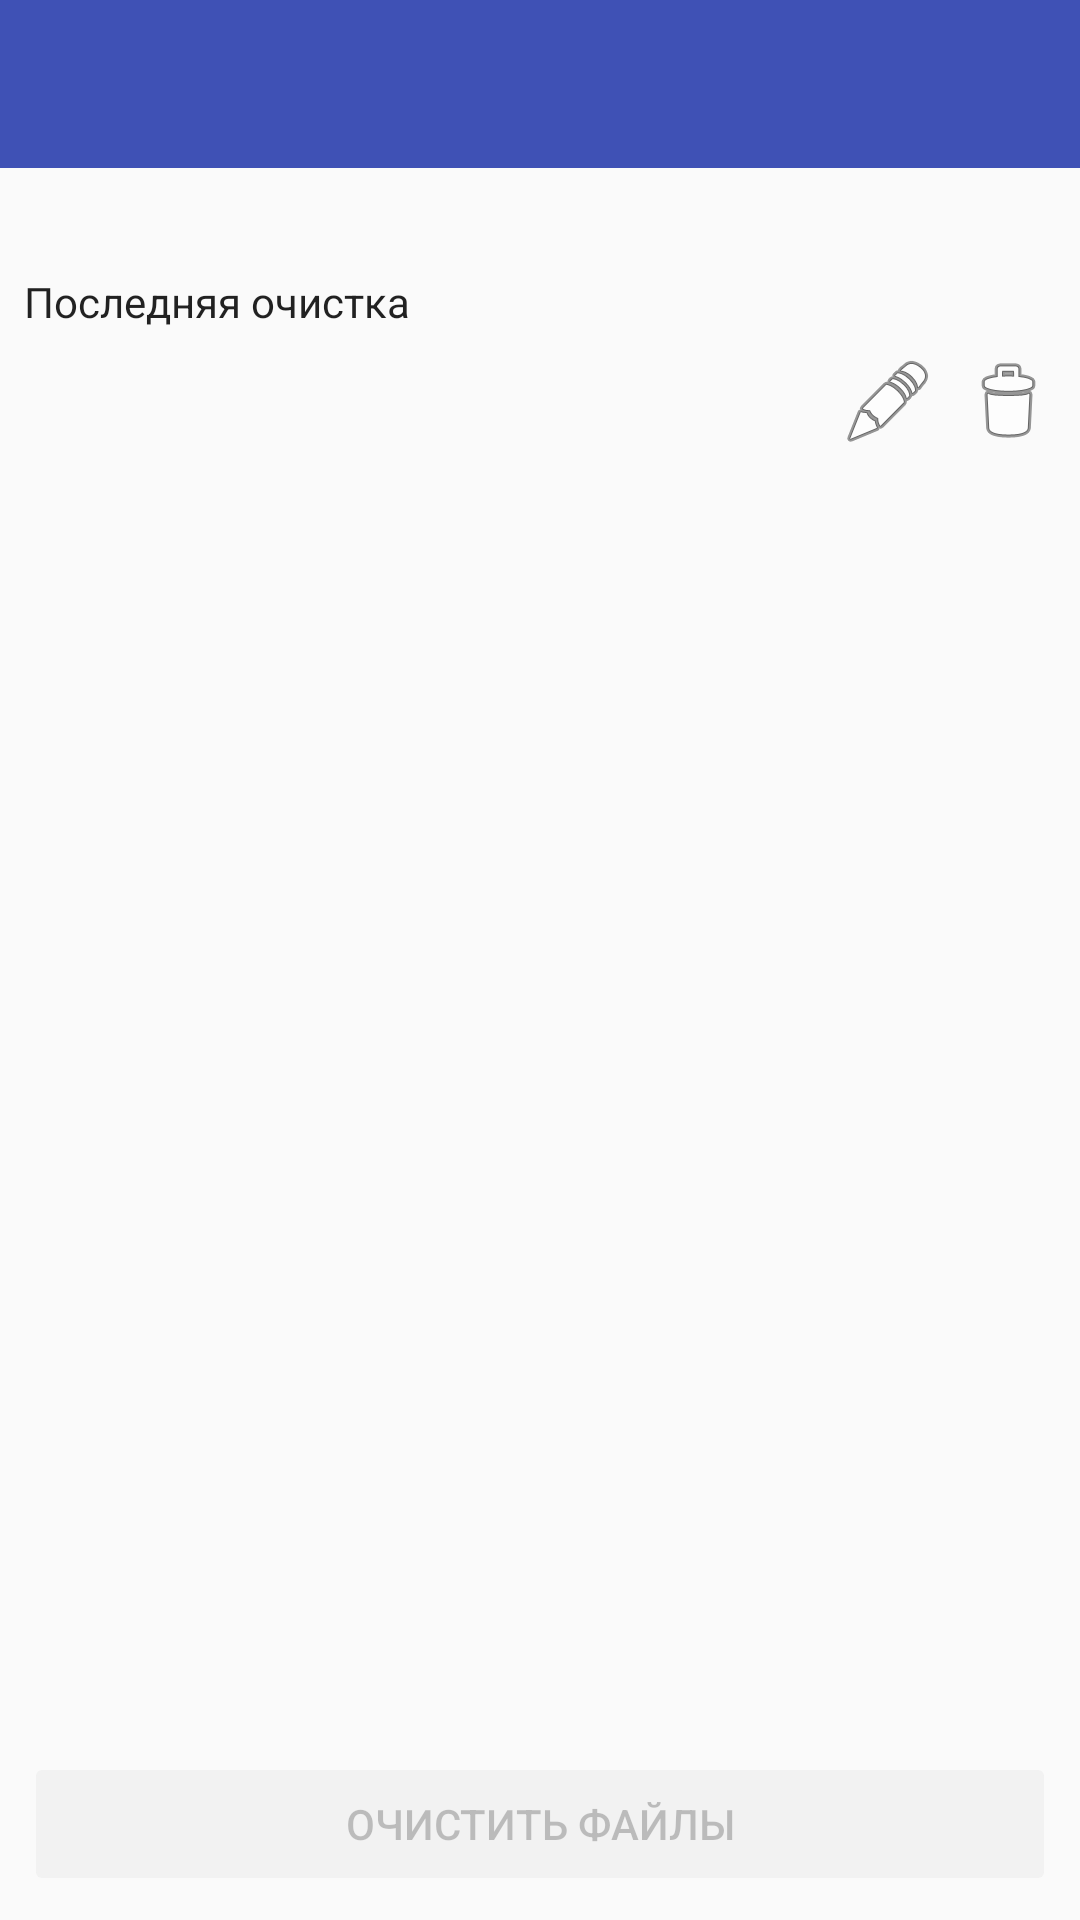

Where icons sit on this 1080w x 1920h app screen, as {"x1": x1, "y1": y1, "x2": x2, "y2": y2}:
delete: {"x1": 981, "y1": 363, "x2": 1036, "y2": 438}
edit: {"x1": 847, "y1": 361, "x2": 928, "y2": 442}
